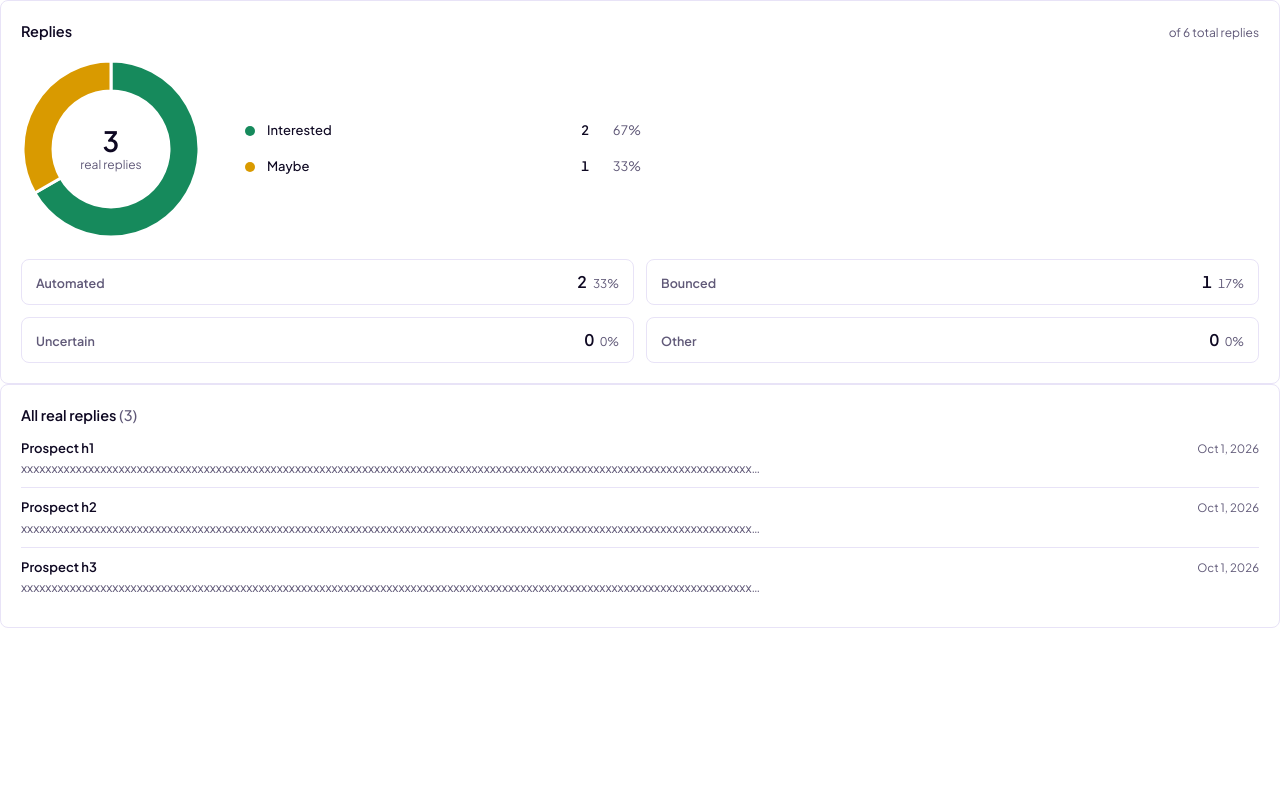
Test case: ReplyBreakdown › shows a tooltip on legend focus and filters on click
Focus the button "Interested 2 67%": (299, 130) [233,113,653,149]
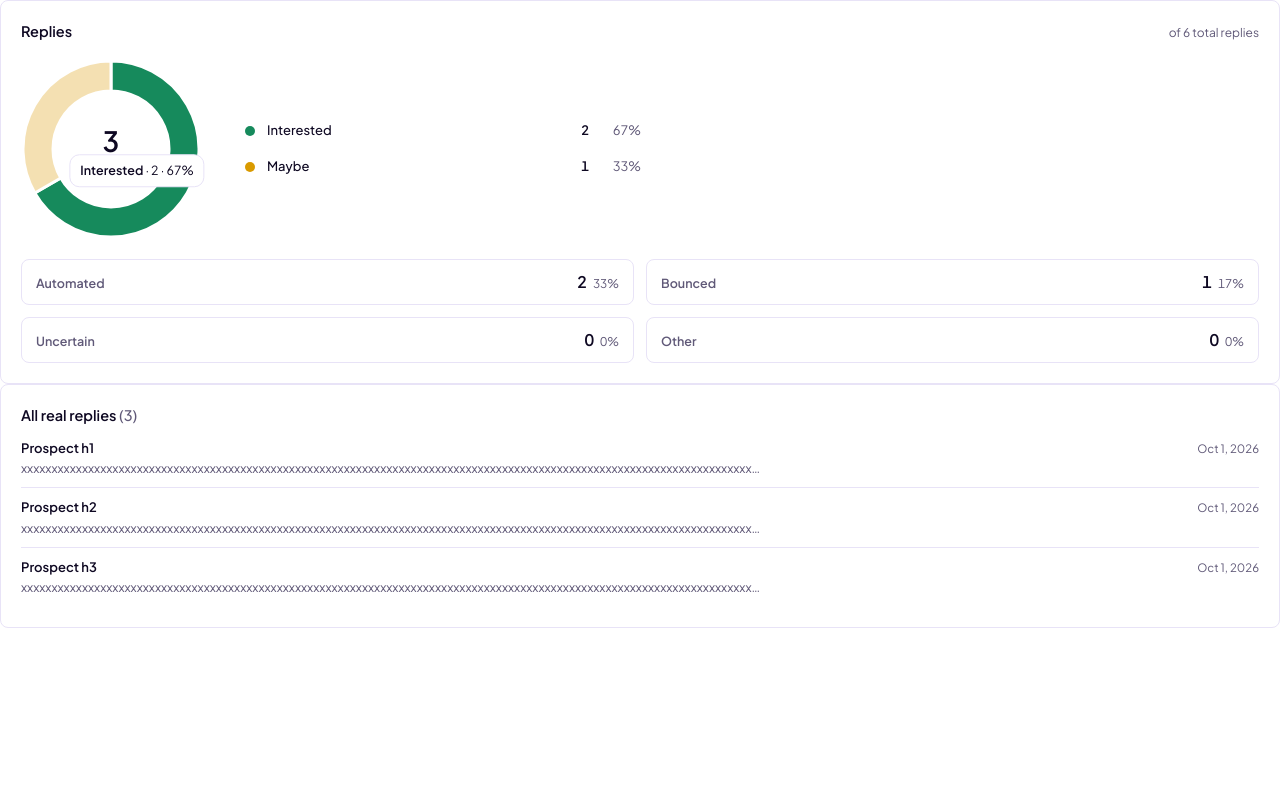
Expected: the tooltip reads "Interested · 2 · 67%", [69,154,205,187]
Click the button "Interested 2 67%": (299, 130) [233,113,653,149]
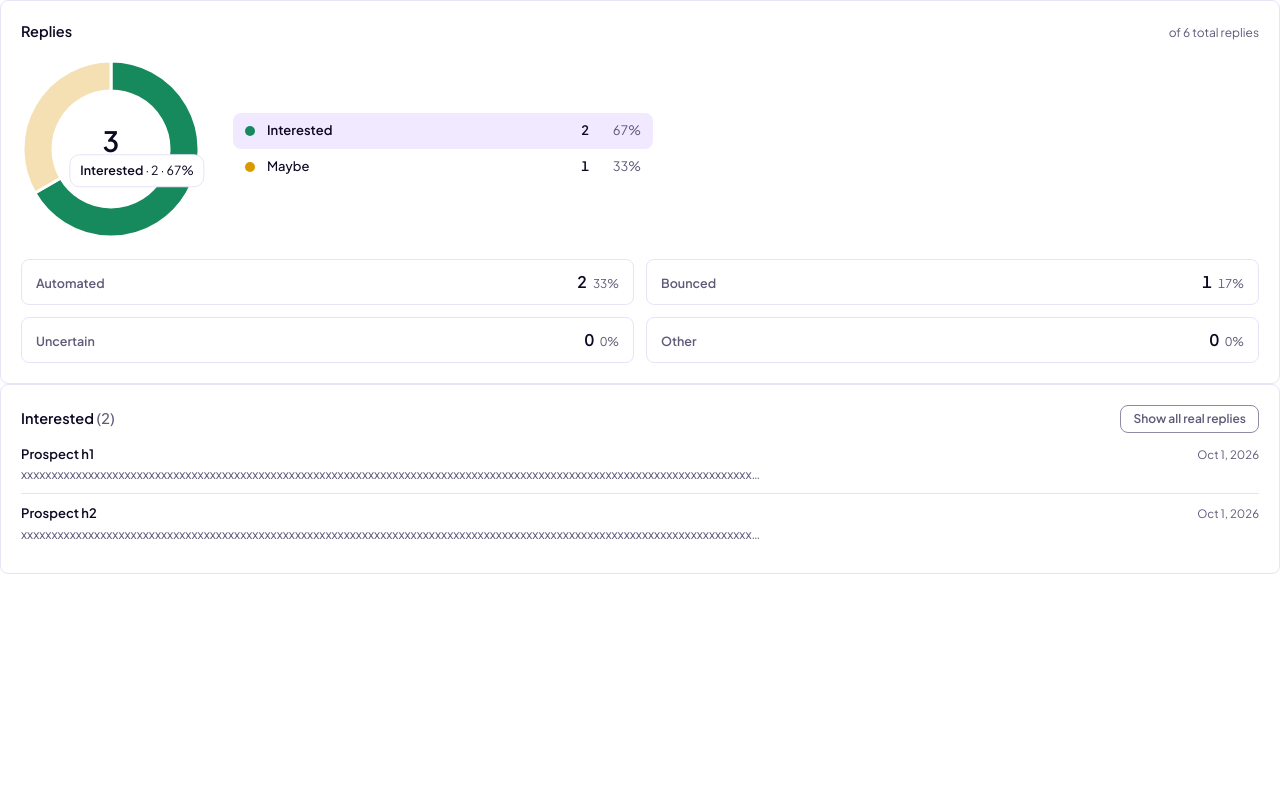
Expected: the text "Prospect h1" is shown, [21,445,94,464]
Expected: the text "Prospect h3" is gone
